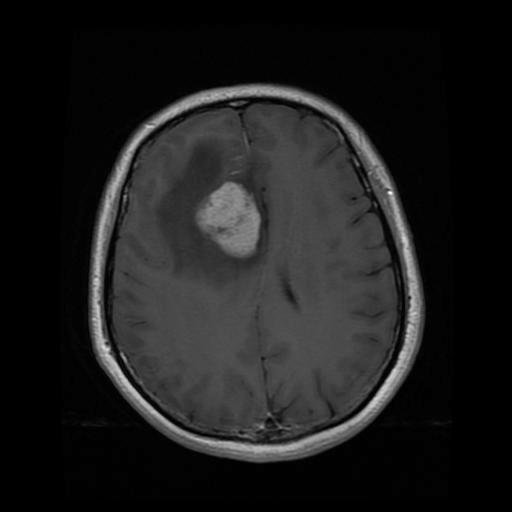Tumour-Pituitary: (162, 167, 291, 277)
